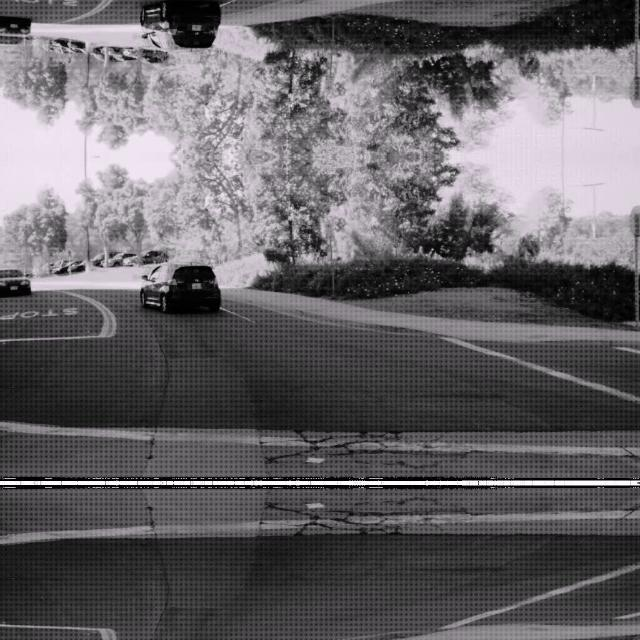pedestrianCrossing: (61, 245, 77, 261), (61, 51, 77, 67)
